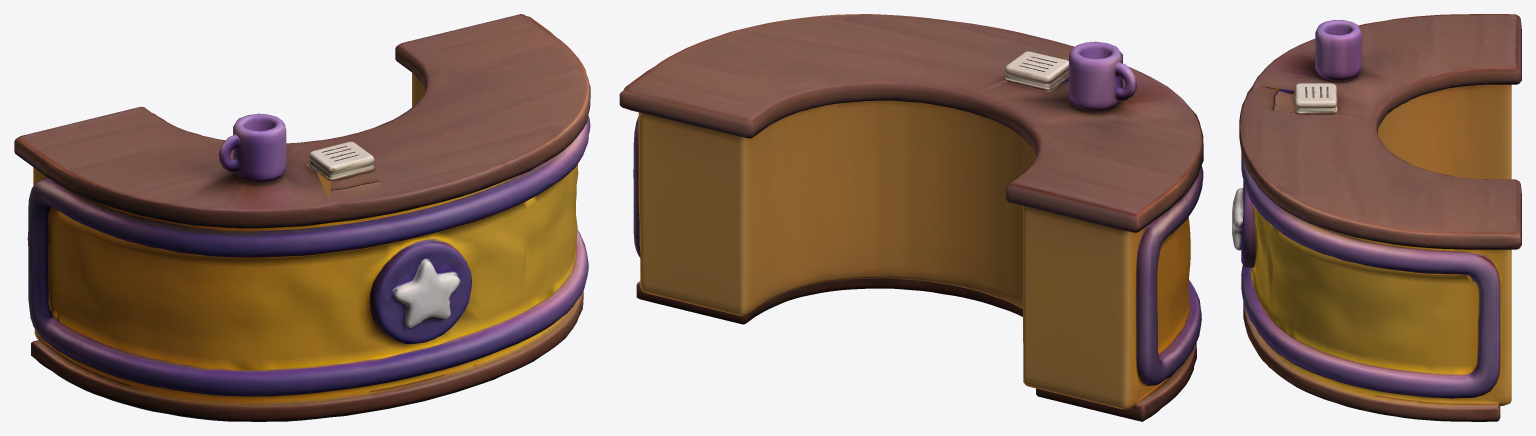
File: masa.glb
3 renders of one model, left to right at view 1: azimuth 30°, elevation 25°; view 2: azimuth 150°, elevation 25°; view 3: azimuth 270°, elevation 25°, orthographic. The views are drawn at different scales.
Visible parts, largest first — view 1: tripo_node_555dbef4-f9d7-424f-a063-356e44de4122; view 2: tripo_node_555dbef4-f9d7-424f-a063-356e44de4122; view 3: tripo_node_555dbef4-f9d7-424f-a063-356e44de4122.
Boxes of the visible parts, left/top/right/bottom form: tripo_node_555dbef4-f9d7-424f-a063-356e44de4122: left=14, top=14, right=590, bottom=421; tripo_node_555dbef4-f9d7-424f-a063-356e44de4122: left=619, top=14, right=1203, bottom=421; tripo_node_555dbef4-f9d7-424f-a063-356e44de4122: left=1232, top=14, right=1521, bottom=421.
Bounding box in the file's own units: 0.9779 × 0.488 × 0.5396.
1 material, 1 textured.
